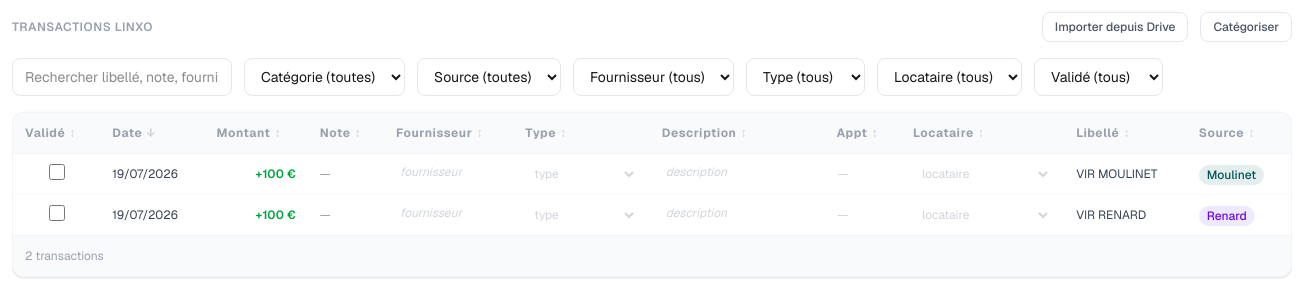
Test: LinxoTable — source Renard › filtrer par "Renard" n'affiche que les transactions de cette source
The width and height of the screenshot is (1304, 295).
expect the text "VIR MOULINET" is shown: met, box [1076, 166, 1157, 182]
expect the text "VIR RENARD" is shown: met, box [1076, 207, 1146, 223]
Select "Renard" in the 2nd dropdown showing "Source (toutes)" at (489, 77), box [417, 58, 561, 96]
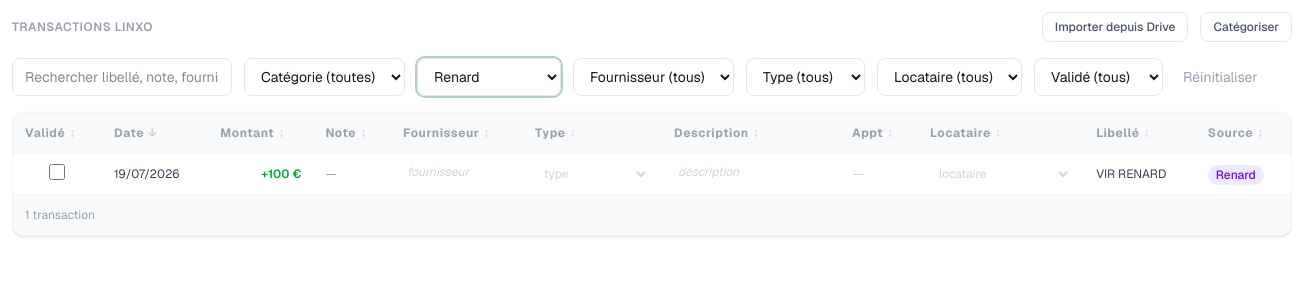
expect the text "VIR RENARD" is shown: met, box [1096, 166, 1166, 182]
expect the text "VIR MOULINET" is gone: met
